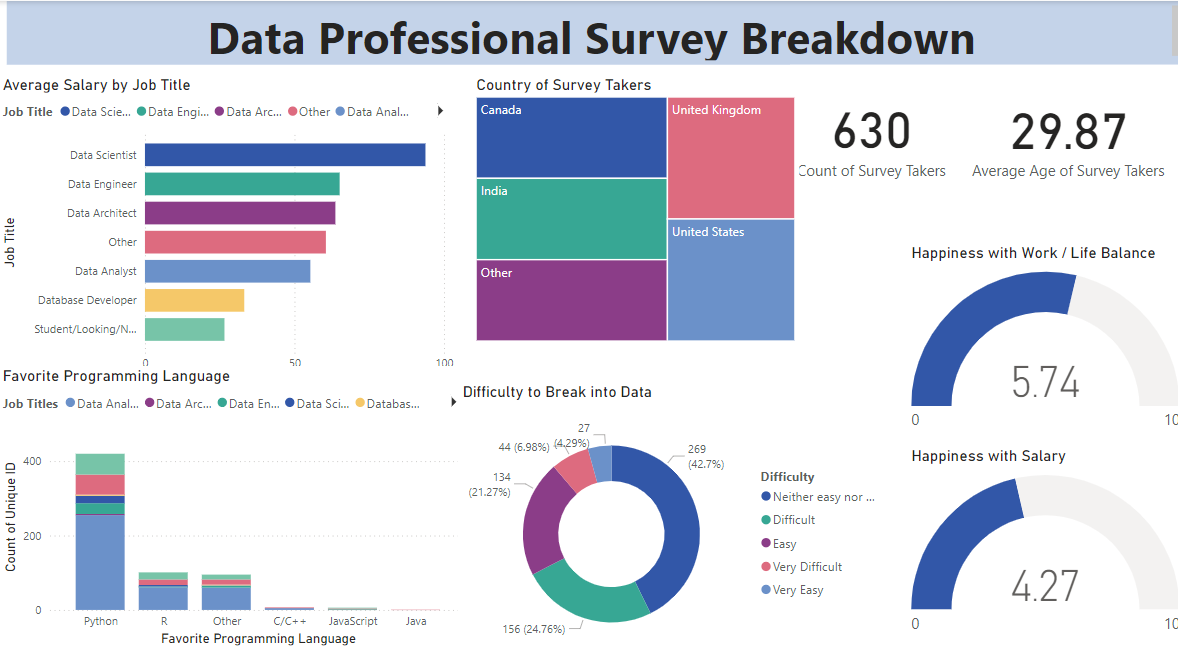

The dashboard page shown, as its layout file describes it:
{"tool":"powerbi","page":{"name":"Page 1","canvas":[1280,720],"ordinal":0},"visuals":[{"type":"textbox","box":[9.6,0,1270.7,68.6],"z":0},{"type":"card","fields":{"Values":["Count(Data Professional Survey.Unique ID)"]},"box":[856,68.6,175.2,149.9],"z":1000},{"type":"card","fields":{"Values":["Avg(Data Professional Survey.Q10 - Current Age)"]},"box":[1031.2,68.6,249.2,151.7],"z":2000},{"type":"barChart","title":"Average Salary by Job Title","fields":{"Category":["Data Professional Survey.Q1 - Which Title Best Fits your Current Role?.1"],"Y":["Avg(Data Professional Survey.Average Salary)"],"Series":["Data Professional Survey.Q1 - Which Title Best Fits your Current Role?.1"]},"box":[0,79.5,496.6,343.1],"z":3000},{"type":"columnChart","title":"Favorite Programming Language","fields":{"Category":["Data Professional Survey.Q5 - Favorite Programming Language.1"],"Y":["CountNonNull(Data Professional Survey.Unique ID)"],"Series":["Data Professional Survey.Q1 - Which Title Best Fits your Current Role?.1"]},"box":[0,393.7,511.1,307],"z":4000},{"type":"treemap","title":"Country of Survey Takers","fields":{"Group":["Data Professional Survey.Q11 - Which Country do you live in?.1"],"Values":["Count(Data Professional Survey.Q11 - Which Country do you live in?.1)"]},"box":[511.1,79.5,354,292.6],"z":5000},{"type":"gauge","title":"Happiness with Work / Life Balance","fields":{"Y":["Avg(Data Professional Survey.Q6 - How Happy are you in your Current Position with the following? (Work/Life Balance))"],"MinValue":["Min(Data Professional Survey.Q6 - How Happy are you in your Current Position with the following? (Work/Life Balance))"],"MaxValue":["Max(Data Professional Survey.Q6 - How Happy are you in your Current Position with the following? (Work/Life Balance))1"]},"box":[980.6,261.9,299.8,218.5],"z":5001},{"type":"gauge","title":"Happiness with Salary","fields":{"Y":["Avg(Data Professional Survey.Q6 - How Happy are you in your Current Position with the following? (Salary))"],"MinValue":["Min(Data Professional Survey.Q6 - How Happy are you in your Current Position with the following? (Salary))"],"MaxValue":["Max(Data Professional Survey.Q6 - How Happy are you in your Current Position with the following? (Salary))"]},"box":[980.6,480.4,299.8,220.3],"z":5002},{"type":"donutChart","title":"Difficulty to Break into Data","fields":{"Category":["Data Professional Survey.Q7 - How difficult was it for you to break into Data?"],"Y":["CountNonNull(Data Professional Survey.Q7 - How difficult was it for you to break into Data?)"]},"box":[496.6,411.7,469.5,308.8],"z":5003}]}

Visuals, with their boxes in screenshot pixels (x1, y1, x2, y2), scaled from the page's 1280x720 canvas onto the 1178x666 screenshot:
textbox: bbox(9, 0, 1177, 63)
card - Count(Data Professional Survey.Unique ID): bbox(788, 63, 949, 202)
card - Avg(Data Professional Survey.Q10 - Current Age): bbox(949, 63, 1177, 204)
"Average Salary by Job Title" barChart: bbox(0, 74, 457, 391)
"Favorite Programming Language" columnChart: bbox(0, 364, 470, 648)
"Country of Survey Takers" treemap: bbox(470, 74, 796, 344)
"Happiness with Work / Life Balance" gauge: bbox(902, 242, 1177, 444)
"Happiness with Salary" gauge: bbox(902, 444, 1177, 648)
"Difficulty to Break into Data" donutChart: bbox(457, 381, 889, 665)
